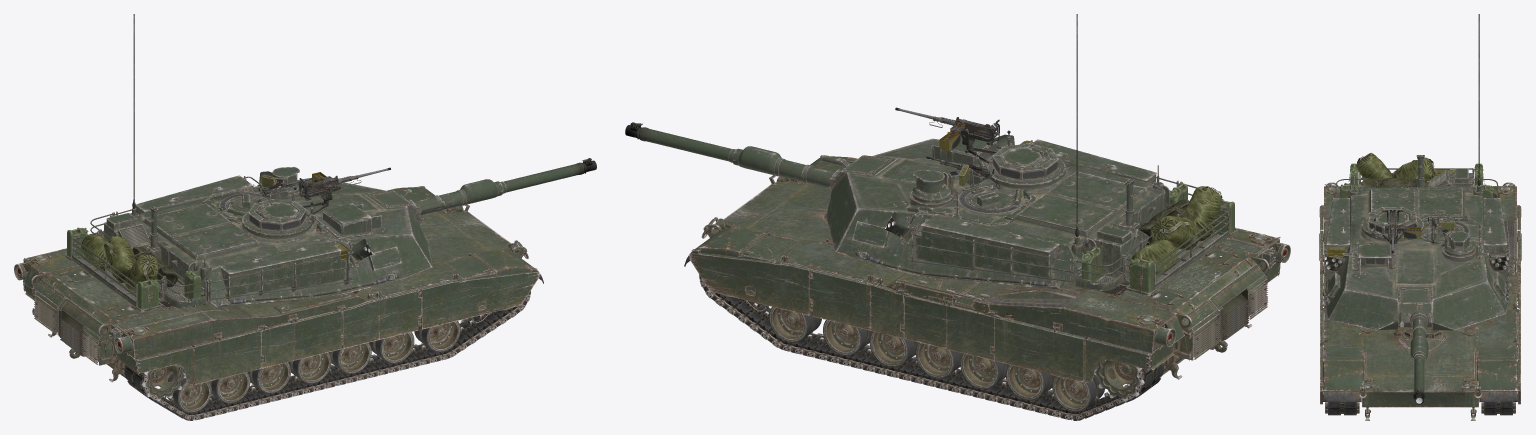
The model's file is abrams.glb.
The picture shows the model from 3 angles, left to right: view 1: azimuth 30°, elevation 25°; view 2: azimuth 150°, elevation 25°; view 3: azimuth 270°, elevation 25°; orthographic projection. The views are drawn at different scales.
Parts seen in each view (by area): view 1: turret_12, hull_8, hull_13, turret_9, tracks_1, turret_10, wheels_2, gun_1, turret_11, hull_5, turret_8, hull_6 (+7 smaller); view 2: turret_12, hull_8, hull_13, turret_10, tracks_0, wheels_0, turret_9, gun_1, hull_6, wheels_1, turret_8, hull_7 (+7 smaller); view 3: turret_12, hull_8, turret_10, turret_9, hull_5, gun_1, hull_6, hull_13, turret_8, turret_11, turret_16, hull_9 (+8 smaller).
Boxes of the visible parts, x1=… form: turret_12: x1=65, y1=171, x2=432, y2=311; hull_8: x1=23, y1=204, x2=528, y2=386; hull_13: x1=23, y1=186, x2=539, y2=385; turret_9: x1=73, y1=166, x2=401, y2=310; tracks_1: x1=124, y1=289, x2=530, y2=420; turret_10: x1=104, y1=175, x2=286, y2=256; wheels_2: x1=123, y1=342, x2=371, y2=412; gun_1: x1=363, y1=158, x2=596, y2=224; turret_11: x1=65, y1=223, x2=399, y2=312; hull_5: x1=14, y1=205, x2=543, y2=353; turret_8: x1=81, y1=234, x2=158, y2=293; hull_6: x1=32, y1=187, x2=434, y2=335; turret_12: x1=826, y1=131, x2=1237, y2=295; hull_8: x1=701, y1=175, x2=1279, y2=384; hull_13: x1=689, y1=155, x2=1280, y2=382; turret_10: x1=852, y1=166, x2=1149, y2=279; tracks_0: x1=699, y1=256, x2=1164, y2=420; wheels_0: x1=720, y1=294, x2=1004, y2=389; turret_9: x1=912, y1=130, x2=1227, y2=294; gun_1: x1=625, y1=122, x2=897, y2=191; hull_6: x1=684, y1=227, x2=1266, y2=360; wheels_1: x1=1006, y1=352, x2=1165, y2=411; turret_8: x1=1129, y1=186, x2=1222, y2=275; hull_7: x1=1208, y1=263, x2=1267, y2=340; turret_12: x1=1323, y1=155, x2=1509, y2=330; hull_8: x1=1321, y1=184, x2=1520, y2=420; turret_10: x1=1371, y1=168, x2=1506, y2=297; turret_9: x1=1326, y1=168, x2=1484, y2=297; hull_5: x1=1322, y1=182, x2=1515, y2=402; gun_1: x1=1398, y1=286, x2=1432, y2=404; hull_6: x1=1476, y1=354, x2=1518, y2=402; hull_13: x1=1319, y1=205, x2=1521, y2=404; turret_8: x1=1356, y1=152, x2=1470, y2=183; turret_11: x1=1324, y1=168, x2=1509, y2=305; turret_16: x1=1340, y1=163, x2=1493, y2=197; hull_9: x1=1320, y1=184, x2=1519, y2=412.
Size of the model in its own units: 9.75 by 5.95 by 3.66.
Materials: 25 (25 with a texture image).
